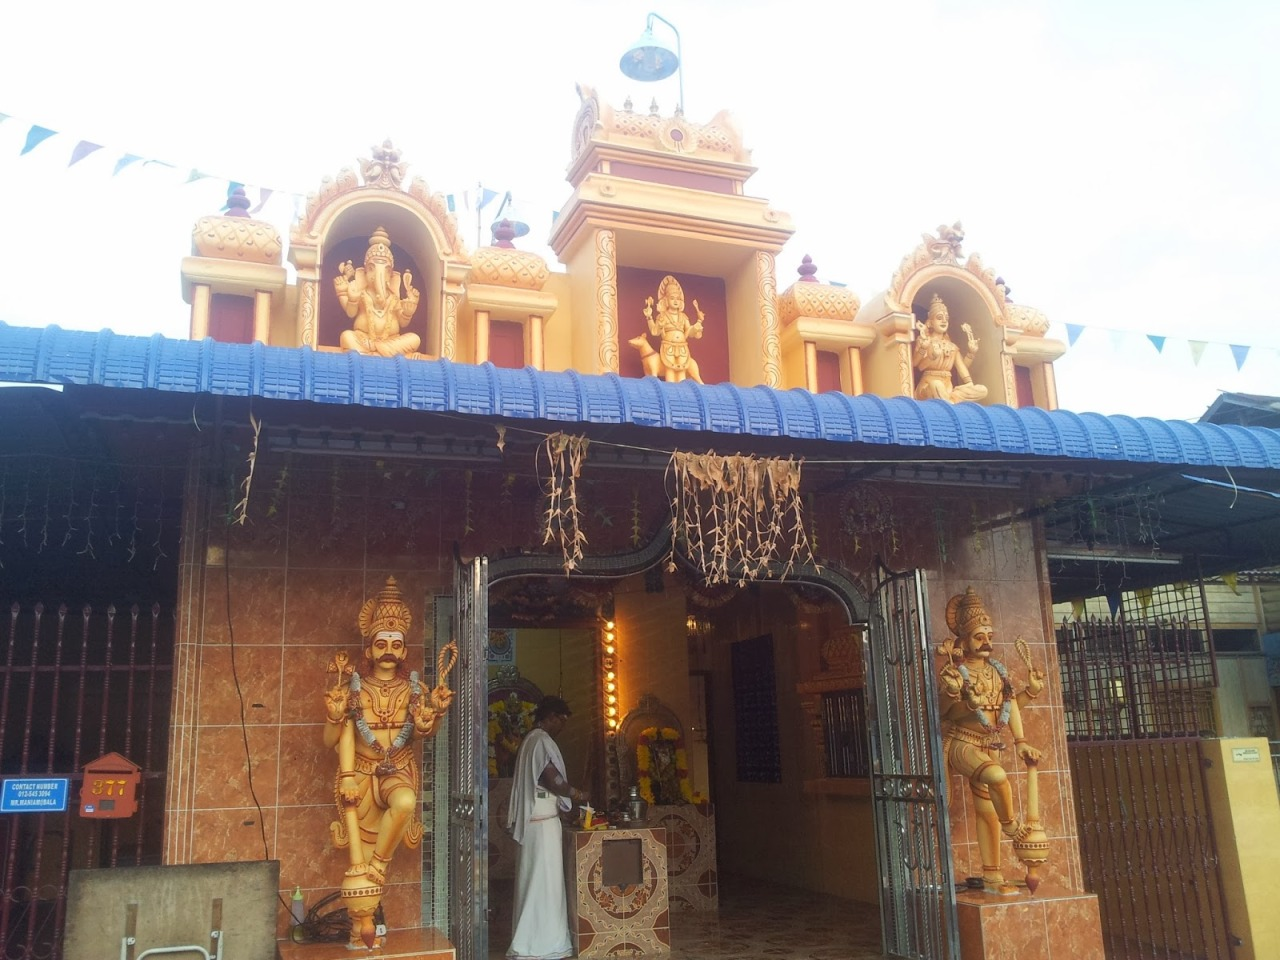Hindu Temple: (136, 105, 1051, 922)
